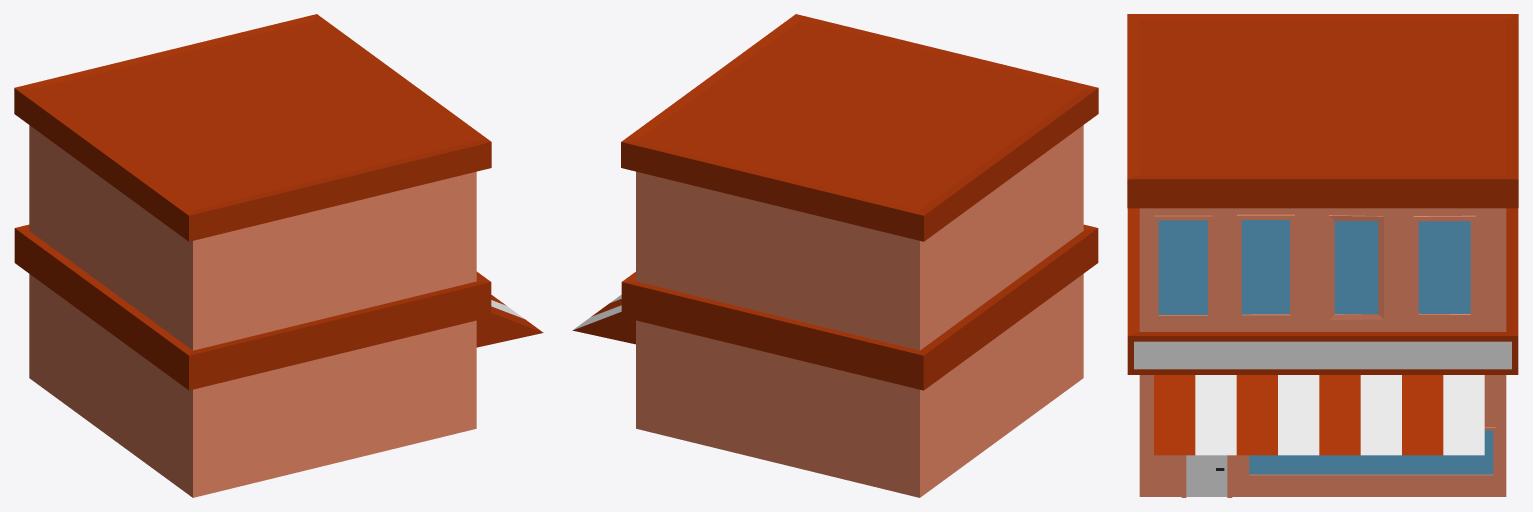
The model's file is Red shop.fbx.
3 renders of one model, left to right at view 1: azimuth 30°, elevation 25°; view 2: azimuth 150°, elevation 25°; view 3: azimuth 270°, elevation 25°, orthographic. The views are drawn at different scales.
Parts seen in each view (by area): view 1: Cube; view 2: Cube; view 3: Cube.
Boxes of the visible parts, x1=… form: Cube: x1=14, y1=14, x2=543, y2=497; Cube: x1=572, y1=14, x2=1098, y2=497; Cube: x1=1127, y1=14, x2=1518, y2=497.
Size of the model in its own units: 259 by 194 by 213.
